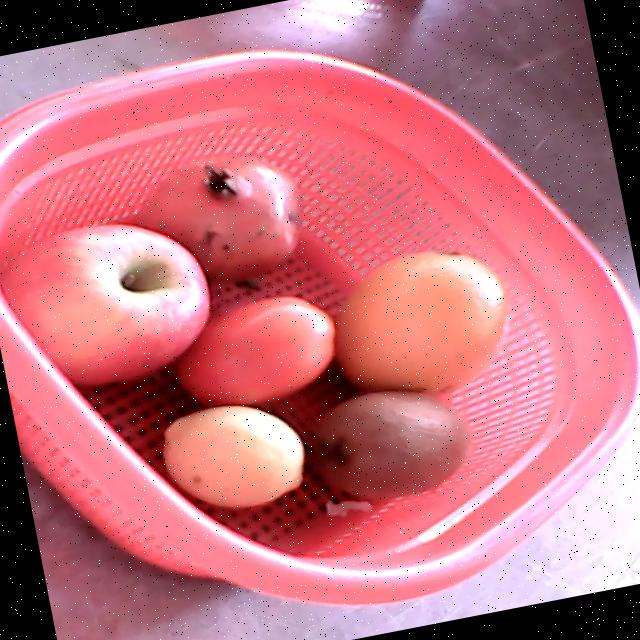apple: (0, 224, 210, 386)
kiwi: (315, 391, 472, 497)
lemon: (161, 405, 305, 508)
orange: (336, 249, 506, 393)
pomegranate: (137, 152, 301, 287)
tomato: (176, 296, 334, 404)
